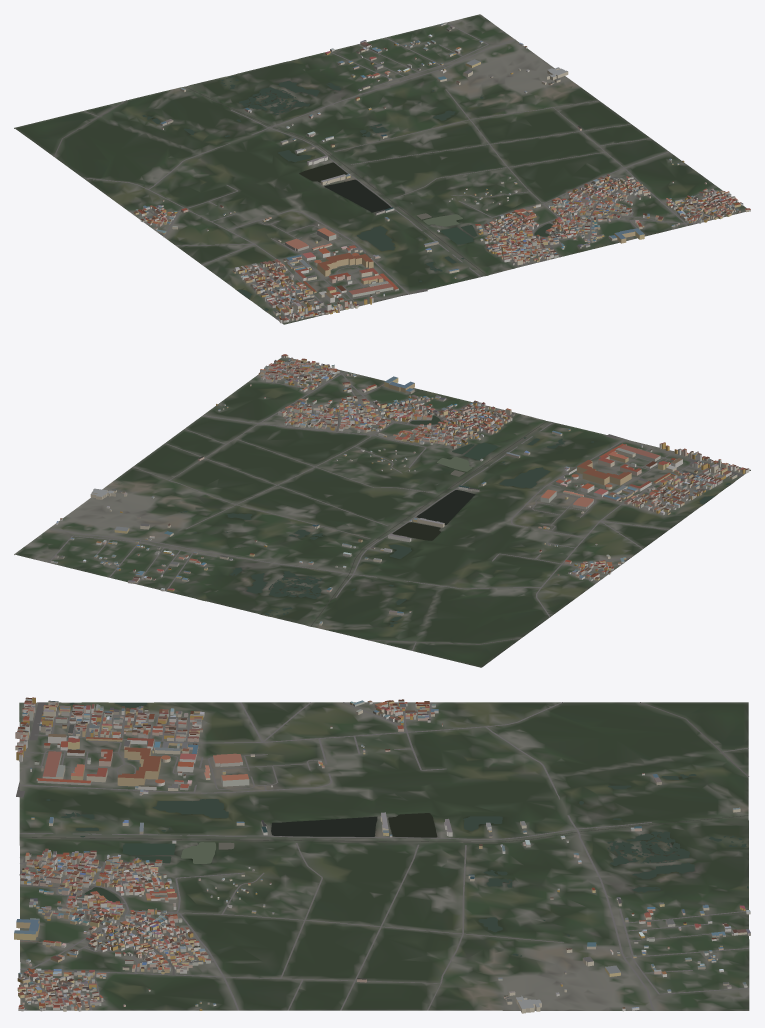
The picture shows the model from 3 angles, top to bottom: view 1: azimuth 30°, elevation 25°; view 2: azimuth 150°, elevation 25°; view 3: azimuth 270°, elevation 25°; orthographic projection. The views are drawn at different scales.
Parts seen in each view (by area): view 1: ground, buildings, roads, water; view 2: ground, buildings, roads, water; view 3: ground, buildings, water, roads.
Part boxes in pixels (<box>): ground: <box>14,14,746,324</box>; buildings: <box>133,22,750,323</box>; roads: <box>54,22,720,319</box>; water: <box>142,60,552,310</box>; ground: <box>14,357,750,667</box>; buildings: <box>50,354,749,625</box>; roads: <box>48,357,743,650</box>; water: <box>180,415,730,626</box>; ground: <box>19,702,749,1010</box>; buildings: <box>14,697,750,1013</box>; water: <box>20,702,748,956</box>; roads: <box>16,702,749,1010</box>.
Size of the model in its own units: 1416 by 25.81 by 1417.
